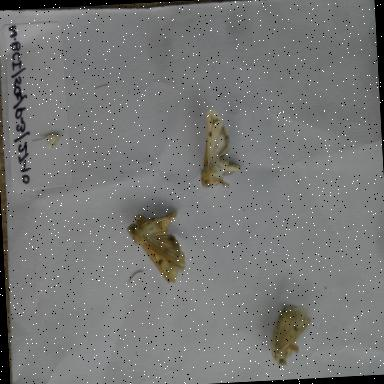abw: (116, 201, 200, 292), (186, 99, 250, 198), (264, 294, 320, 372)
